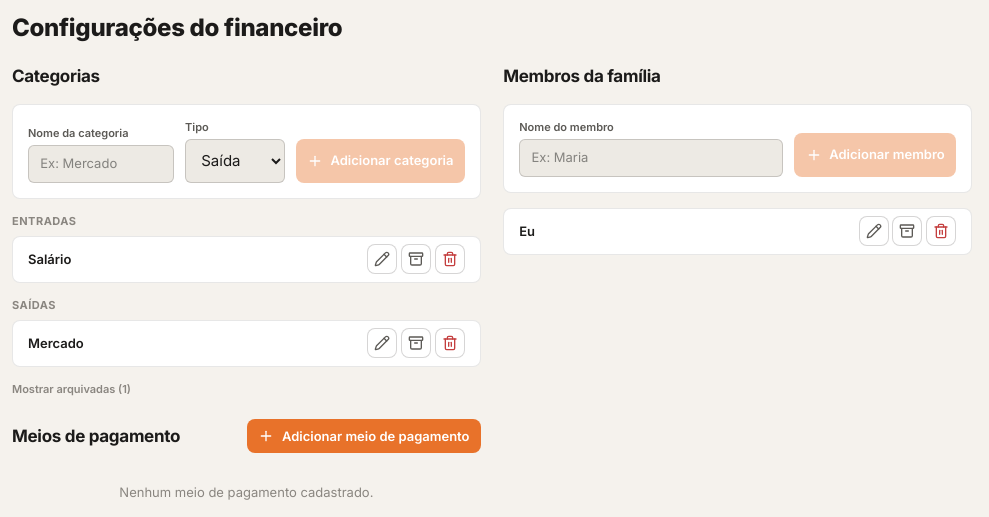
Test: FinanceSettingsPage › shows the in-use error and keeps archive as an alternative when deleting a member fails
Click the button named "Excluir Eu": point(941, 231) [926,216,956,246]
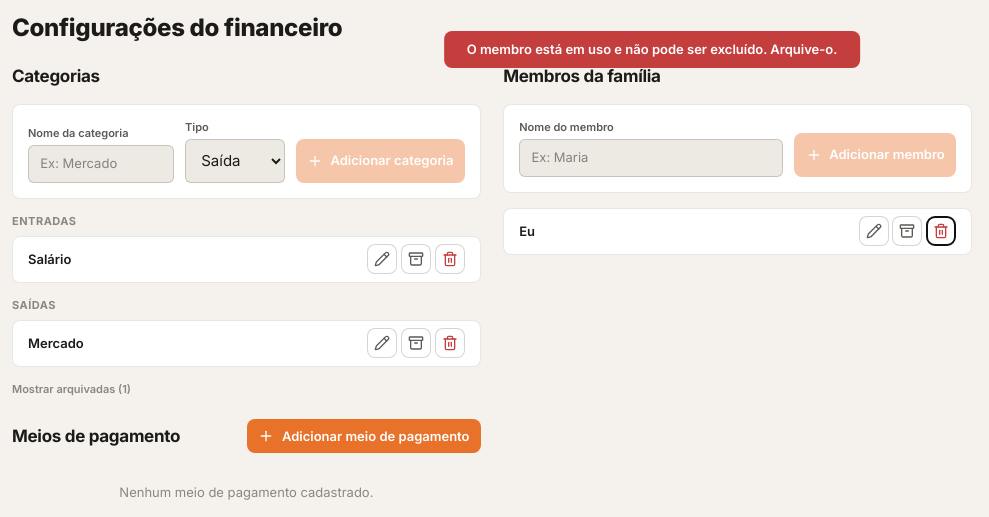
Expected: the button named "Arquivar Eu" is shown, [892,216,922,246]
Expected: the message reads "O membro está em uso e não pode ser excluído. Arquive-o.", [467,41,837,57]
